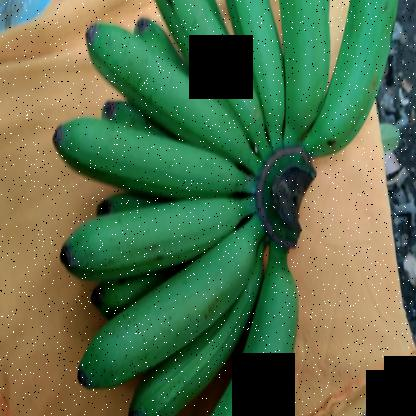freshunripe: (73, 230, 257, 397), (84, 18, 242, 162), (130, 262, 266, 415), (55, 192, 250, 288), (51, 107, 240, 195), (218, 245, 307, 415), (217, 0, 288, 156), (275, 0, 338, 138)
unripe: (309, 0, 406, 162)
